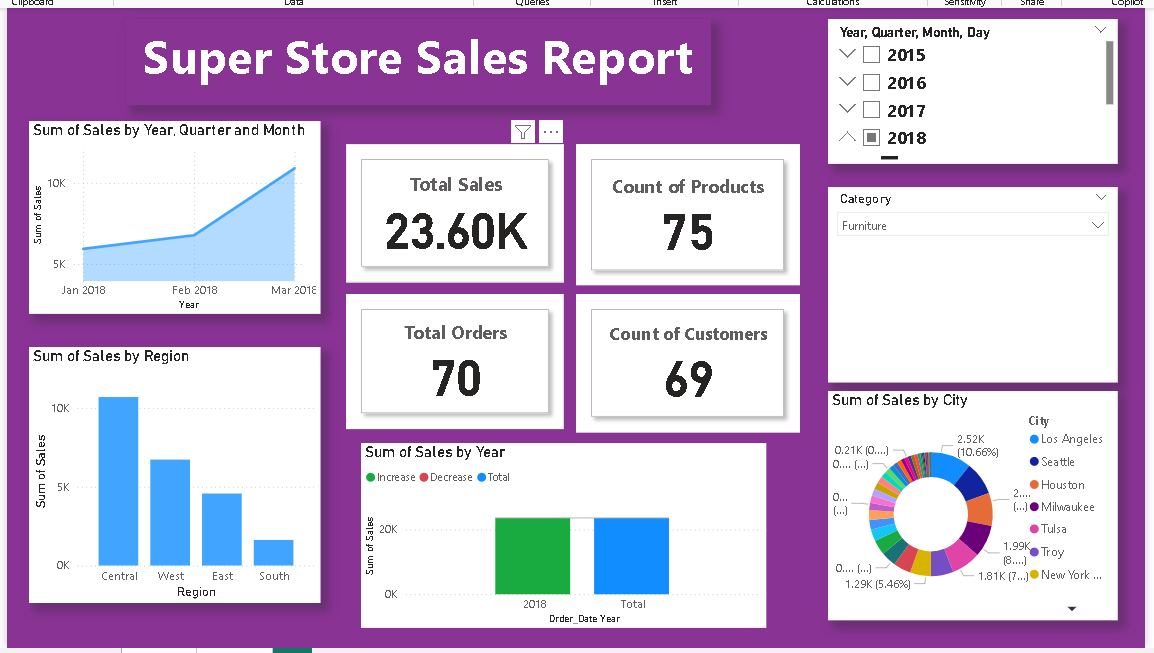

The dashboard page shown, as its layout file describes it:
{"tool":"powerbi","page":{"name":"Page 1","canvas":[1280,720],"ordinal":0},"visuals":[{"type":"cardVisual","title":"Total Sales","fields":{"Data":["Sum(Table1.Sales)"]},"box":[381.7,152.9,245.5,155.5],"z":0},{"type":"cardVisual","fields":{"Data":["Table1.Total Orders"]},"box":[381.7,321.3,245.5,151.6],"z":1000},{"type":"cardVisual","fields":{"Data":["Count(Table1.Customer_ID)"]},"box":[640,321.3,251.9,155.5],"z":2000},{"type":"cardVisual","fields":{"Data":["Count(Table1.Product_ID)"]},"box":[640,152.9,251.9,159.4],"z":3000},{"type":"waterfallChart","fields":{"Category":["Table1.Order_Date.Variation.Date Hierarchy.Year","Table1.Order_Date.Variation.Date Hierarchy.Quarter","Table1.Order_Date.Variation.Date Hierarchy.Month","Table1.Order_Date.Variation.Date Hierarchy.Day"],"Y":["Sum(Table1.Sales)"]},"box":[398.4,489.6,456.2,208.2],"z":4000},{"type":"columnChart","fields":{"Y":["Sum(Table1.Sales)"],"Category":["Table1.Region"]},"box":[24.4,381.7,327.7,287.9],"z":5000},{"type":"areaChart","fields":{"Category":["Table1.Order_Date.Variation.Date Hierarchy.Year","Table1.Order_Date.Variation.Date Hierarchy.Quarter","Table1.Order_Date.Variation.Date Hierarchy.Month"],"Y":["Sum(Table1.Sales)"]},"box":[24.4,127.2,327.7,217.2],"z":6000},{"type":"slicer","fields":{"Values":["Table1.Category"]},"box":[924,201.8,326.4,219.8],"z":7000},{"type":"donutChart","fields":{"Category":["Table1.City"],"Y":["Sum(Table1.Sales)"]},"box":[924,430.5,326.4,258.3],"z":8000},{"type":"textbox","box":[133.9,12.4,658.1,96.8],"z":8001},{"type":"slicer","fields":{"Values":["Table1.Order_Date.Variation.Date Hierarchy.Year","Table1.Order_Date.Variation.Date Hierarchy.Quarter","Table1.Order_Date.Variation.Date Hierarchy.Month","Table1.Order_Date.Variation.Date Hierarchy.Day"]},"box":[924,12.9,326.4,163.2],"z":8002}]}

Visuals, with their boxes on the page's 1280x720 design canvas (x1, y1, x2, y2). These are canvas units, not pixel positions in the 1154x653 screenshot, which may show the page scaled, cropped or inside an application window:
"Total Sales" cardVisual: bbox(382, 153, 627, 308)
cardVisual - Table1.Total Orders: bbox(382, 321, 627, 473)
cardVisual - Count(Table1.Customer_ID): bbox(640, 321, 892, 477)
cardVisual - Count(Table1.Product_ID): bbox(640, 153, 892, 312)
waterfallChart - Table1.Order_Date.Variation.Date Hierarchy.Year x Table1.Order_Date.Variation.Date Hierarchy.Quarter: bbox(398, 490, 855, 698)
columnChart - Sum(Table1.Sales) x Table1.Region: bbox(24, 382, 352, 670)
areaChart - Table1.Order_Date.Variation.Date Hierarchy.Year x Table1.Order_Date.Variation.Date Hierarchy.Quarter: bbox(24, 127, 352, 344)
slicer - Table1.Category: bbox(924, 202, 1250, 422)
donutChart - Table1.City x Sum(Table1.Sales): bbox(924, 430, 1250, 689)
textbox: bbox(134, 12, 792, 109)
slicer - Table1.Order_Date.Variation.Date Hierarchy.Year x Table1.Order_Date.Variation.Date Hierarchy.Quarter: bbox(924, 13, 1250, 176)
